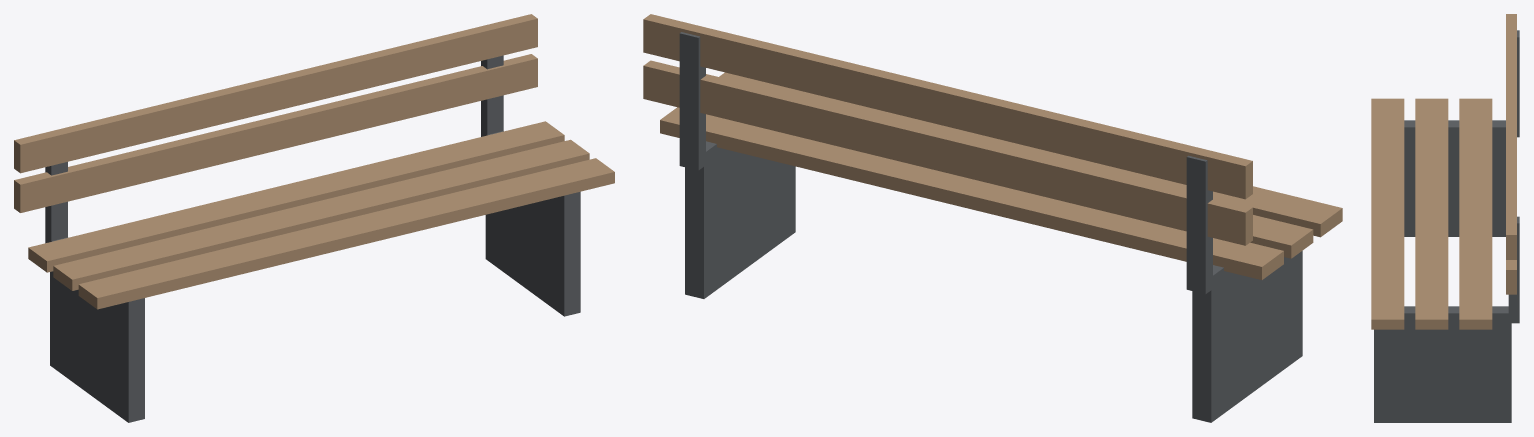
Rendered from SM_Bench_A.fbx.
3 renders of one model, left to right at view 1: azimuth 30°, elevation 25°; view 2: azimuth 150°, elevation 25°; view 3: azimuth 270°, elevation 25°, orthographic. The views are drawn at different scales.
Parts seen in each view (by area): view 1: SM_Bench_A_LOD0; view 2: SM_Bench_A_LOD0; view 3: SM_Bench_A_LOD0.
Boxes of the visible parts, left/top/right/bottom form: SM_Bench_A_LOD0: left=14, top=14, right=614, bottom=422; SM_Bench_A_LOD0: left=643, top=14, right=1342, bottom=422; SM_Bench_A_LOD0: left=1371, top=14, right=1519, bottom=422.
Size of what is drawn, in the model's own units: 1.9 by 0.81 by 0.54.
